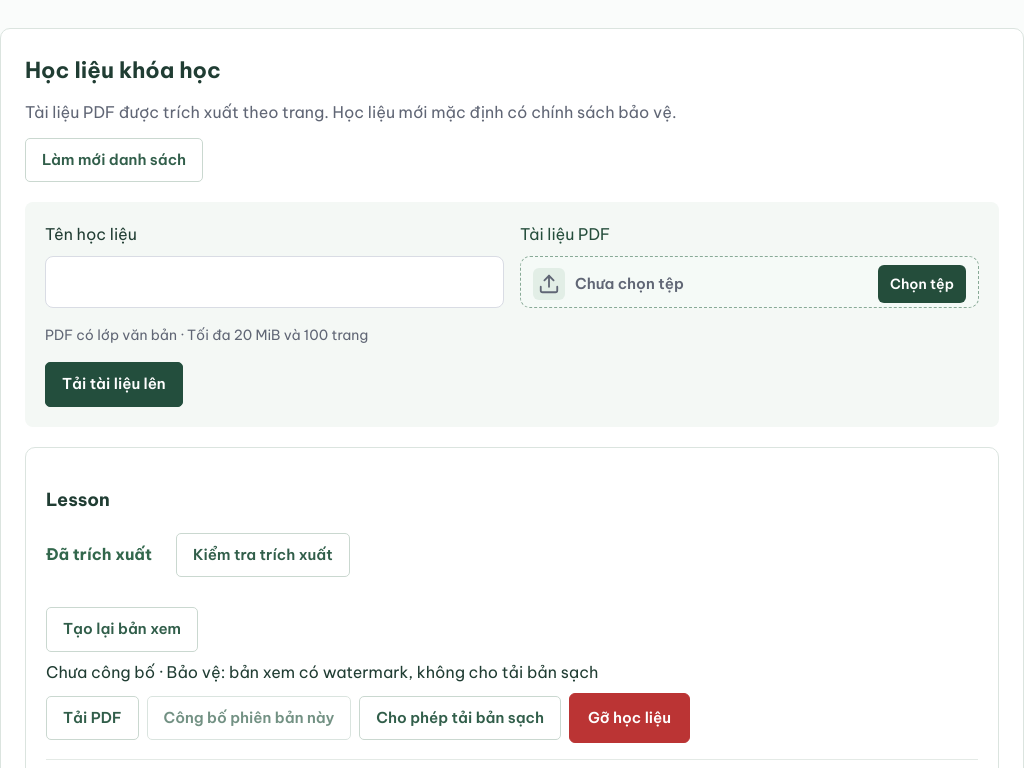
Test: course materials › lets the owner inspect extraction with physical page numbers
The width and height of the screenshot is (1024, 768).
What coordinates should you click on to do the following:
click the button "Kiểm tra trích xuất"
I would click on:
 (263, 555)
Its box is [176,533,350,577].
(page scrolled)
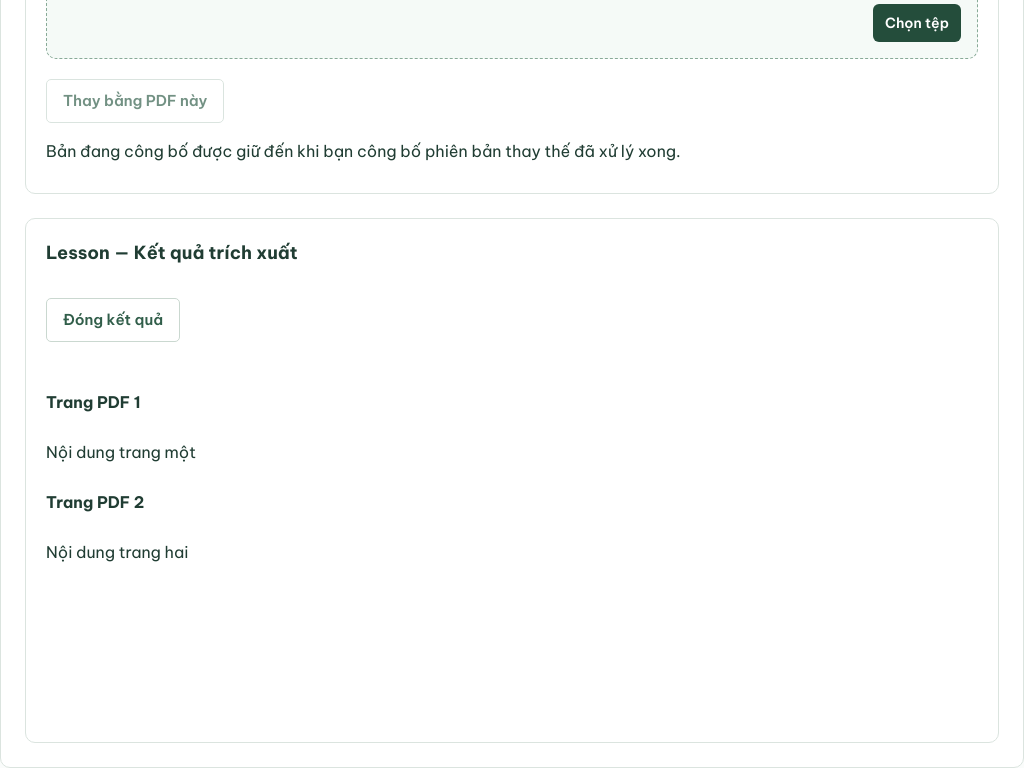
Now the text "Nội dung trang hai" is shown, box [46,542,188,562]
Now the heading "Trang PDF 2" is shown, box [46,492,144,512]
